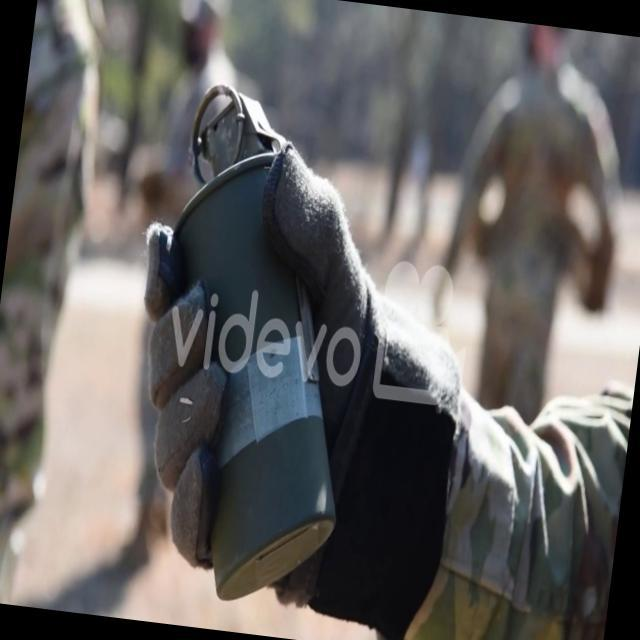grenade: (122, 78, 386, 612)
